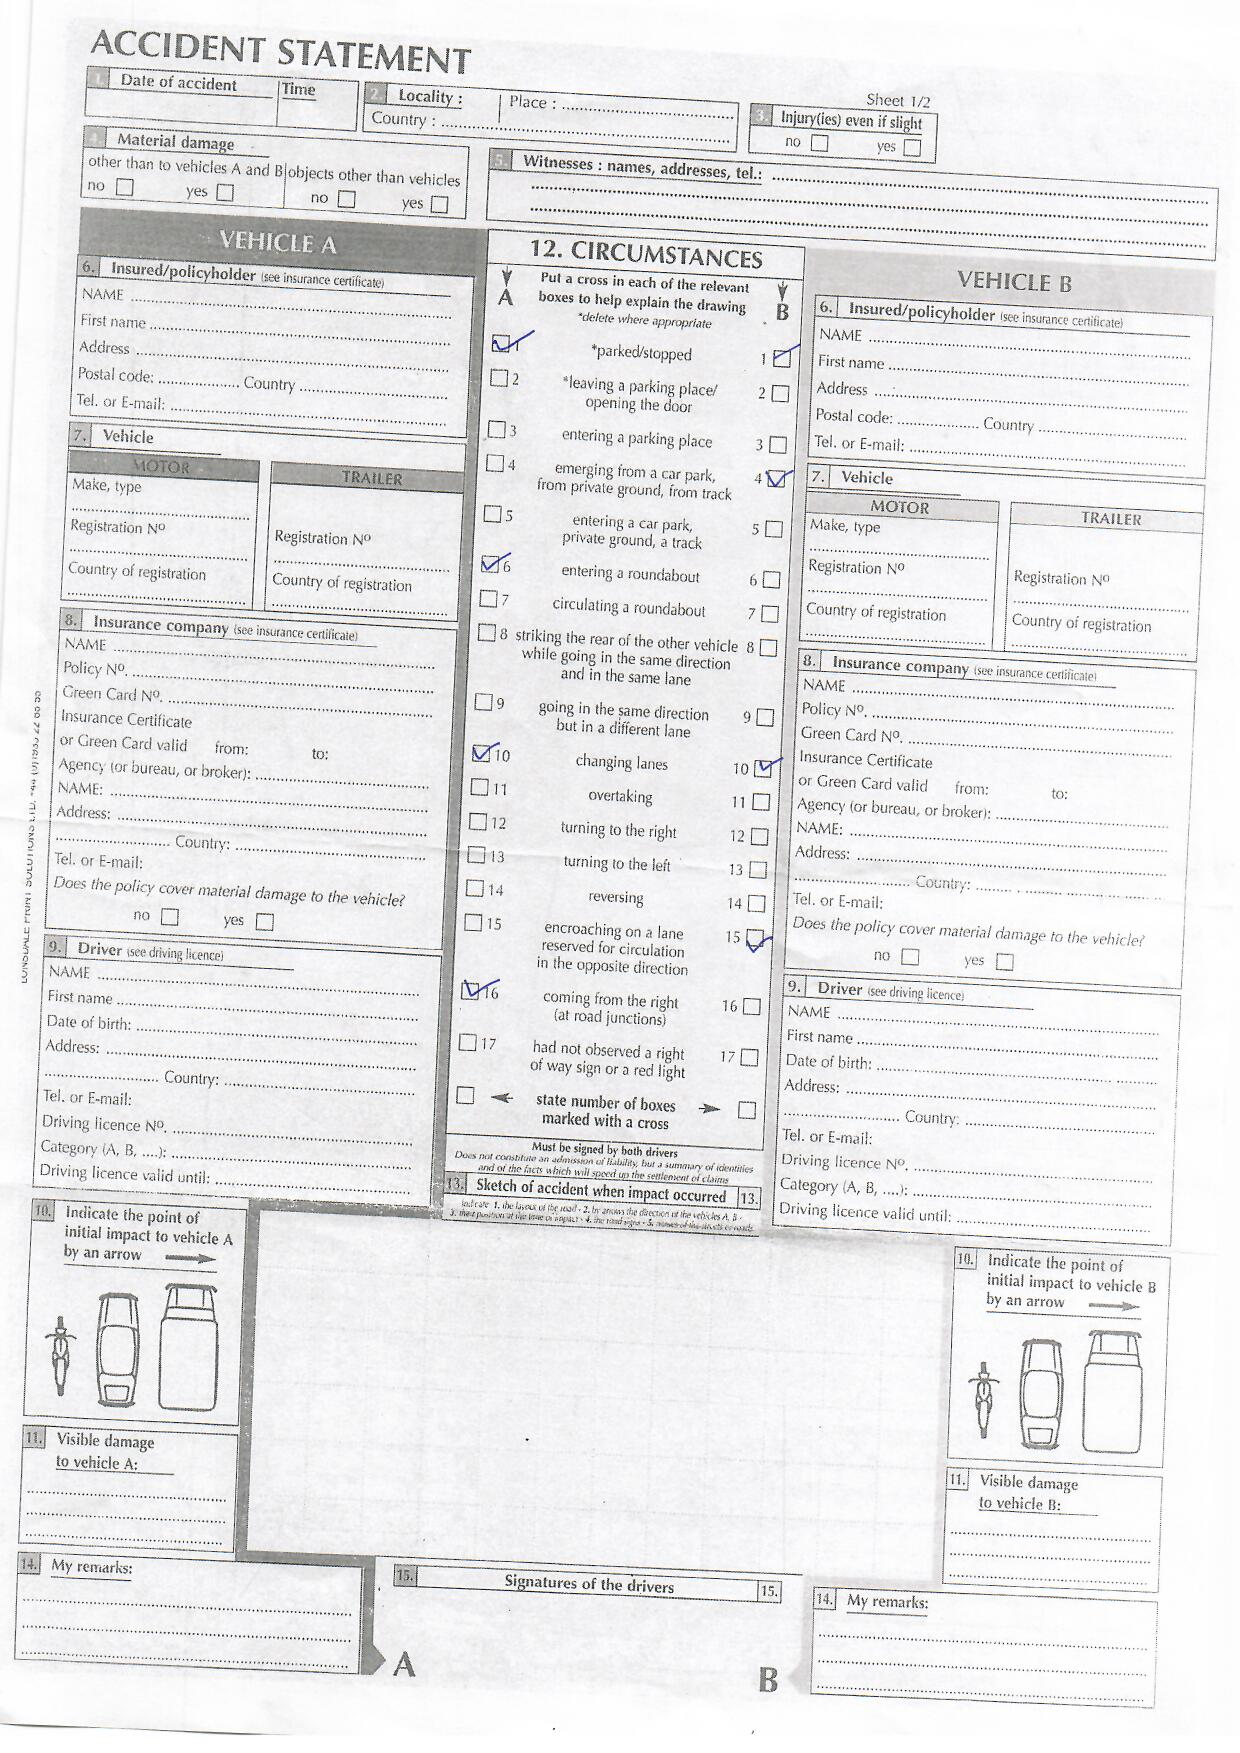check: (480, 332, 517, 356), (456, 977, 487, 1005), (764, 348, 794, 372), (478, 550, 505, 577), (741, 925, 768, 952), (764, 466, 789, 493), (747, 758, 776, 781), (467, 744, 493, 765)
